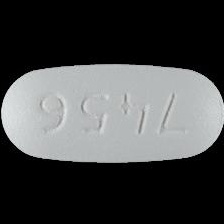50090-1080: (0, 0, 224, 224)
